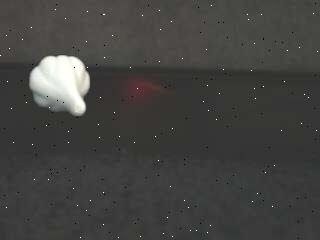Garlic: (28, 55, 91, 117)
